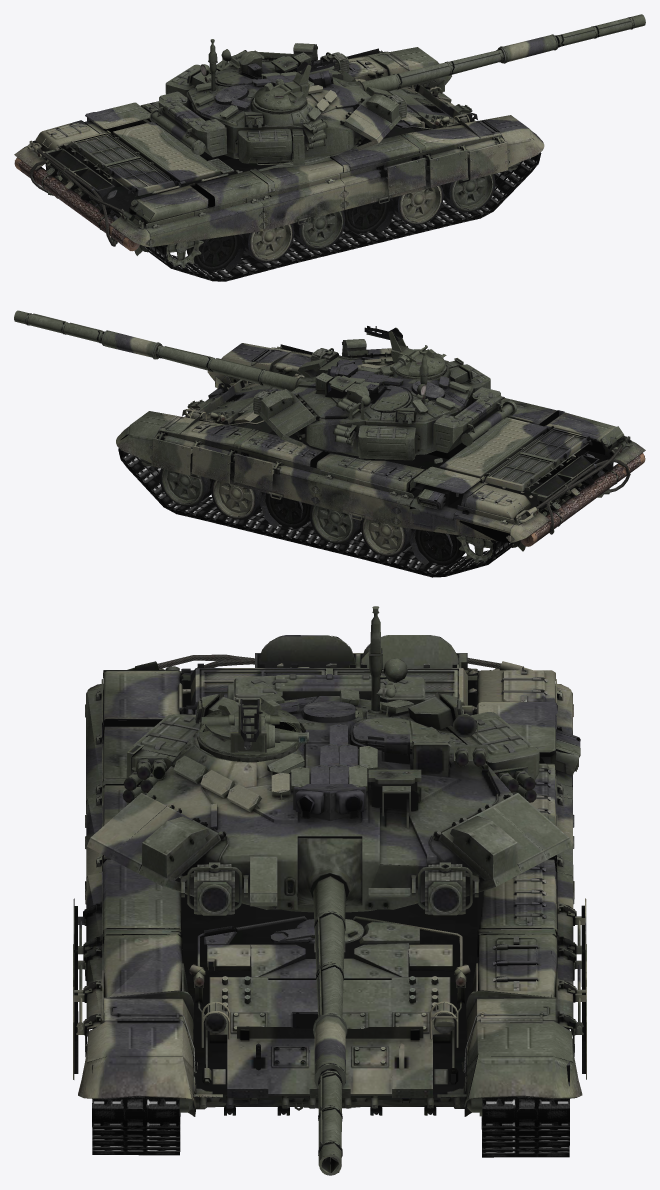
File: tank4.glb
3 views of the same model, one above another, from view 1: azimuth 30°, elevation 25°; view 2: azimuth 150°, elevation 25°; view 3: azimuth 270°, elevation 25° (orthographic). The views are drawn at different scales.
Visible parts, largest first — view 1: object 2, object 5, object 3, Object_7_t, Object_8_k1, Object_6_t, object 6, object 1, Object_4_t, Object_4_w2, Object_2_w9, Object_4_w3 (+6 smaller); view 2: object 2, object 5, object 3, Object_7_t, Object_6_t, Object_8_k0, object 6, object 1, Object_4_t, Object_4_w7, Object_4_w0, Object_4_w4 (+5 smaller); view 3: object 2, Object_6_t, Object_7_t, object 3, object 5, object 6, Object_4_t, object 4, Object_8_k0, Object_8_k1, object 1, Object_5_t (+1 smaller).
Part boxes in pixels (x1,y1,x2,y2): object 2: (14,47,544,255); object 5: (149,39,353,165); object 3: (69,77,477,195); Object_7_t: (252,14,645,130); Object_8_k1: (144,136,541,281); Object_6_t: (189,50,406,145); object 6: (82,15,645,195); object 1: (14,96,448,267); Object_4_t: (215,61,400,138); Object_4_w2: (186,234,244,271); Object_2_w9: (389,185,443,225); Object_4_w3: (441,174,495,212); object 2: (116,343,645,551); object 5: (333,349,516,460); object 3: (182,371,591,491); Object_7_t: (14,310,431,436); Object_6_t: (253,348,471,454); Object_8_k0: (118,433,515,577); object 6: (14,310,588,483); object 1: (226,387,645,563); Object_4_t: (295,327,446,410); Object_4_w7: (410,529,468,569); Object_4_w0: (211,480,265,520); Object_4_w4: (159,468,213,507); object 2: (74,653,585,1116); Object_6_t: (146,712,512,915); Object_7_t: (116,699,568,1174); object 3: (190,663,467,1097); object 5: (122,606,539,912); object 6: (73,635,586,1175); Object_4_t: (112,698,440,905); object 4: (73,635,586,1116); Object_8_k0: (481,1028,569,1157); Object_8_k1: (92,1058,180,1155); object 1: (268,943,408,1028); Object_5_t: (90,755,261,850).
Size of the model in its own units: 1 by 0.2932 by 0.387.
Materials: 2 (2 with a texture image).
